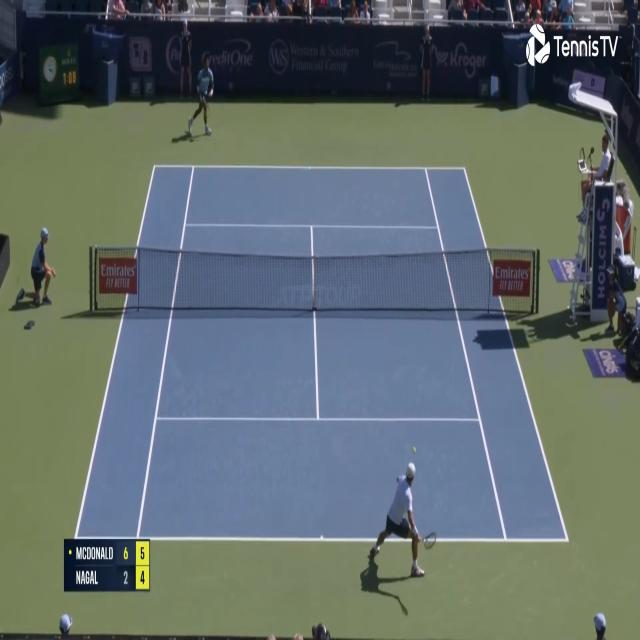tennis-player: (360, 460, 438, 626), (186, 49, 215, 141)
